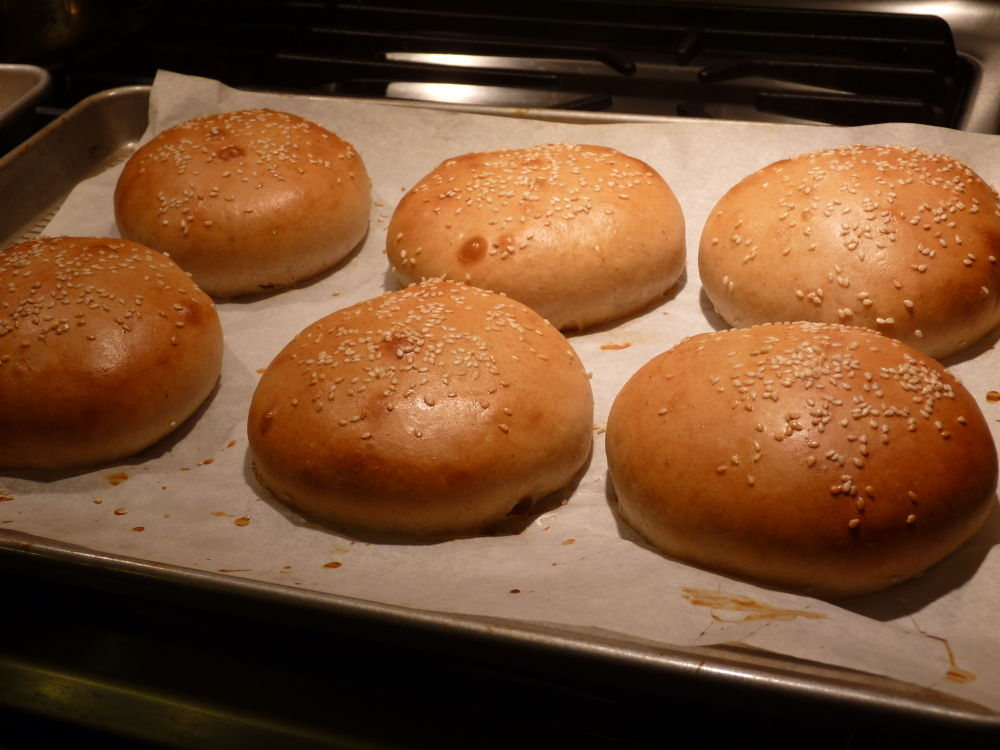hamburger_buns: (569, 304, 1000, 607), (258, 254, 601, 538), (672, 144, 999, 368), (381, 145, 680, 337)
